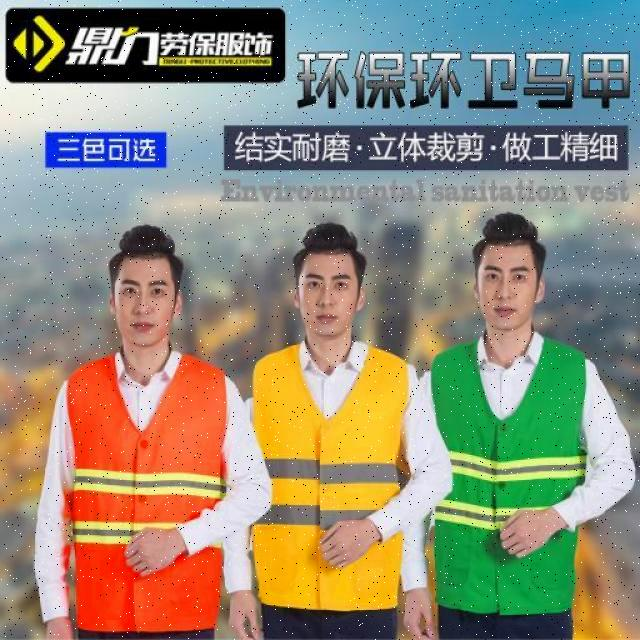Person: (425, 214, 640, 636), (36, 225, 247, 640), (243, 222, 427, 640)
Vest: (61, 357, 226, 630), (252, 345, 412, 615), (431, 338, 589, 568)
